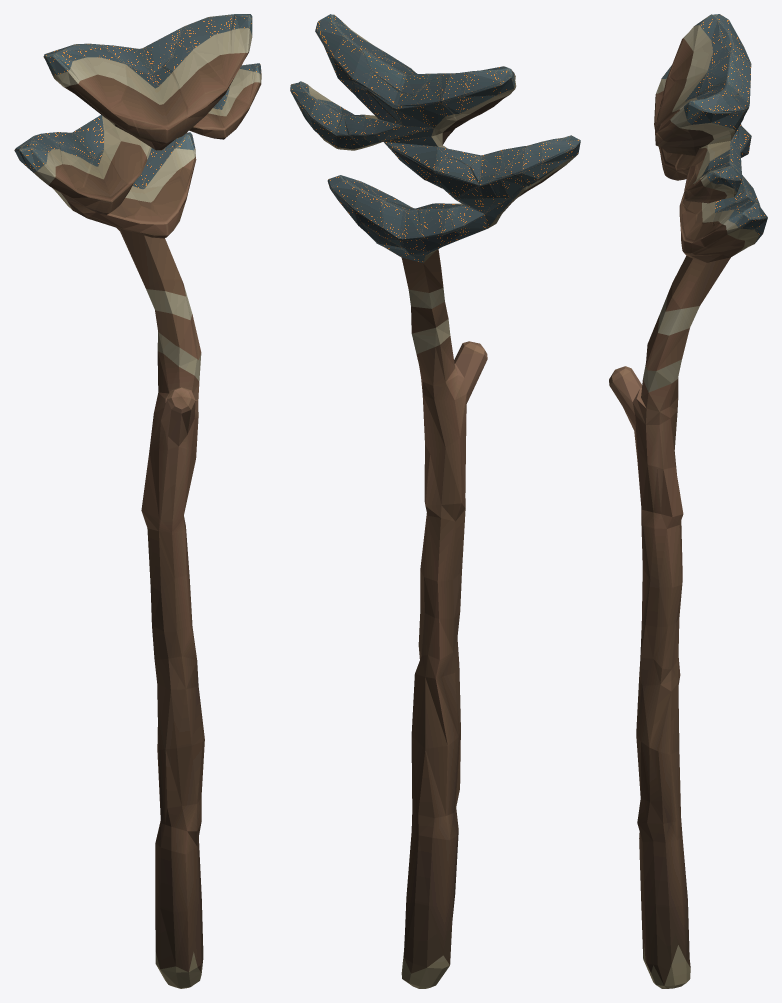
The model's file is CharSkyKid_Prop_AP27ShepherdStaff.glb.
3 renders of one model, left to right at view 1: azimuth 30°, elevation 25°; view 2: azimuth 150°, elevation 25°; view 3: azimuth 270°, elevation 25°, orthographic. The views are drawn at different scales.
Visible parts, largest first — view 1: CharSkyKid_Prop_AP27ShepherdStaff; view 2: CharSkyKid_Prop_AP27ShepherdStaff; view 3: CharSkyKid_Prop_AP27ShepherdStaff.
Part boxes in pixels (x1,y1,x2,y2): CharSkyKid_Prop_AP27ShepherdStaff: [14, 14, 261, 988]; CharSkyKid_Prop_AP27ShepherdStaff: [290, 14, 580, 988]; CharSkyKid_Prop_AP27ShepherdStaff: [609, 14, 767, 988].
Size of the model in its own units: 4.21 by 14.43 by 2.25.
1 material, 1 textured.
